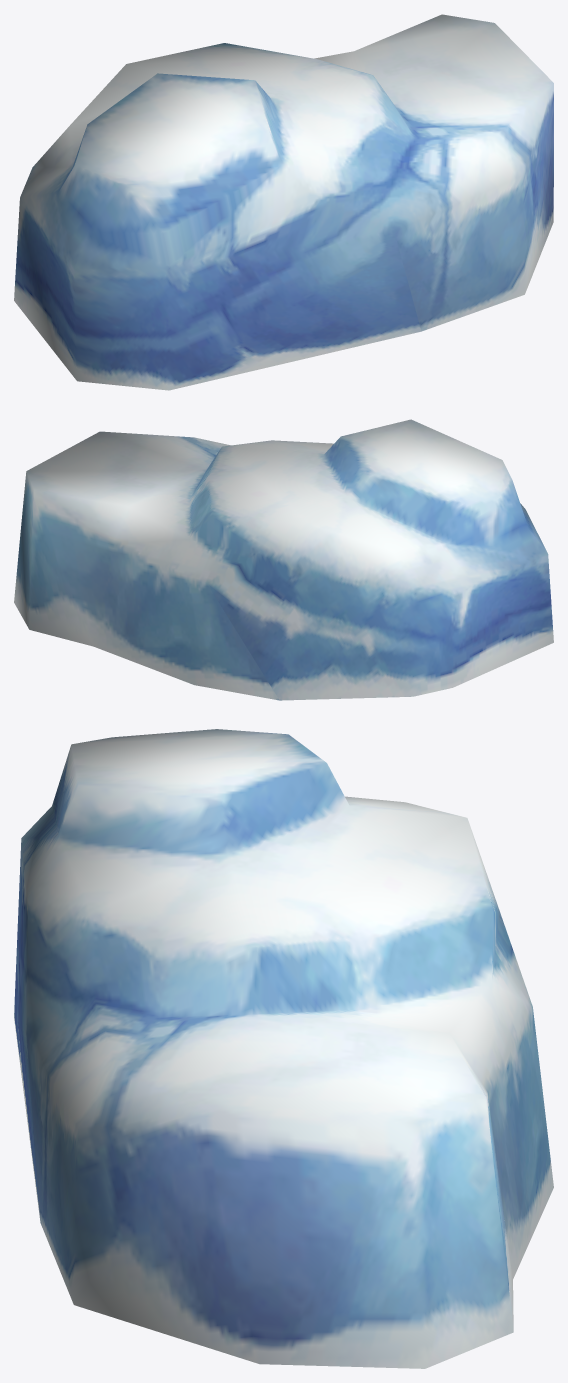
The model's file is SM_stoneA_09.fbx.
The picture shows the model from 3 angles, top to bottom: view 1: azimuth 30°, elevation 25°; view 2: azimuth 150°, elevation 25°; view 3: azimuth 270°, elevation 25°; orthographic projection. The views are drawn at different scales.
Visible parts, largest first — view 1: SM_stoneA_09; view 2: SM_stoneA_09; view 3: SM_stoneA_09.
Part boxes in pixels (x1,y1,x2,y2): SM_stoneA_09: [14, 14, 553, 390]; SM_stoneA_09: [14, 419, 553, 700]; SM_stoneA_09: [14, 729, 553, 1368].
Size of the model in its own units: 19.75 by 8.18 by 11.6.
